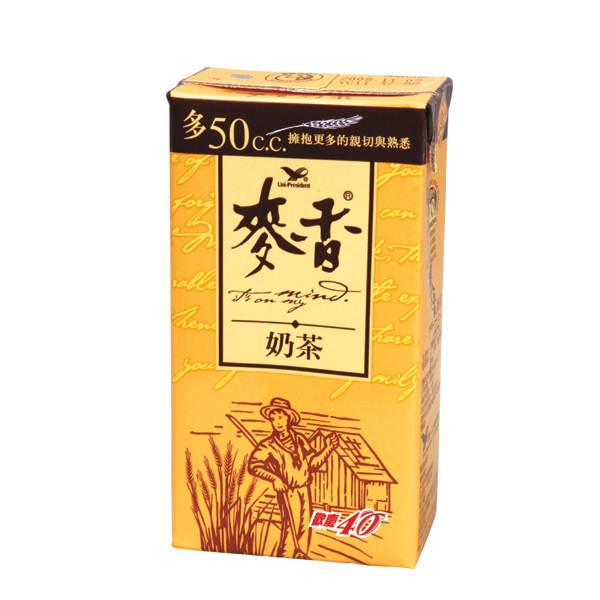milk tea: (169, 61, 453, 578)
